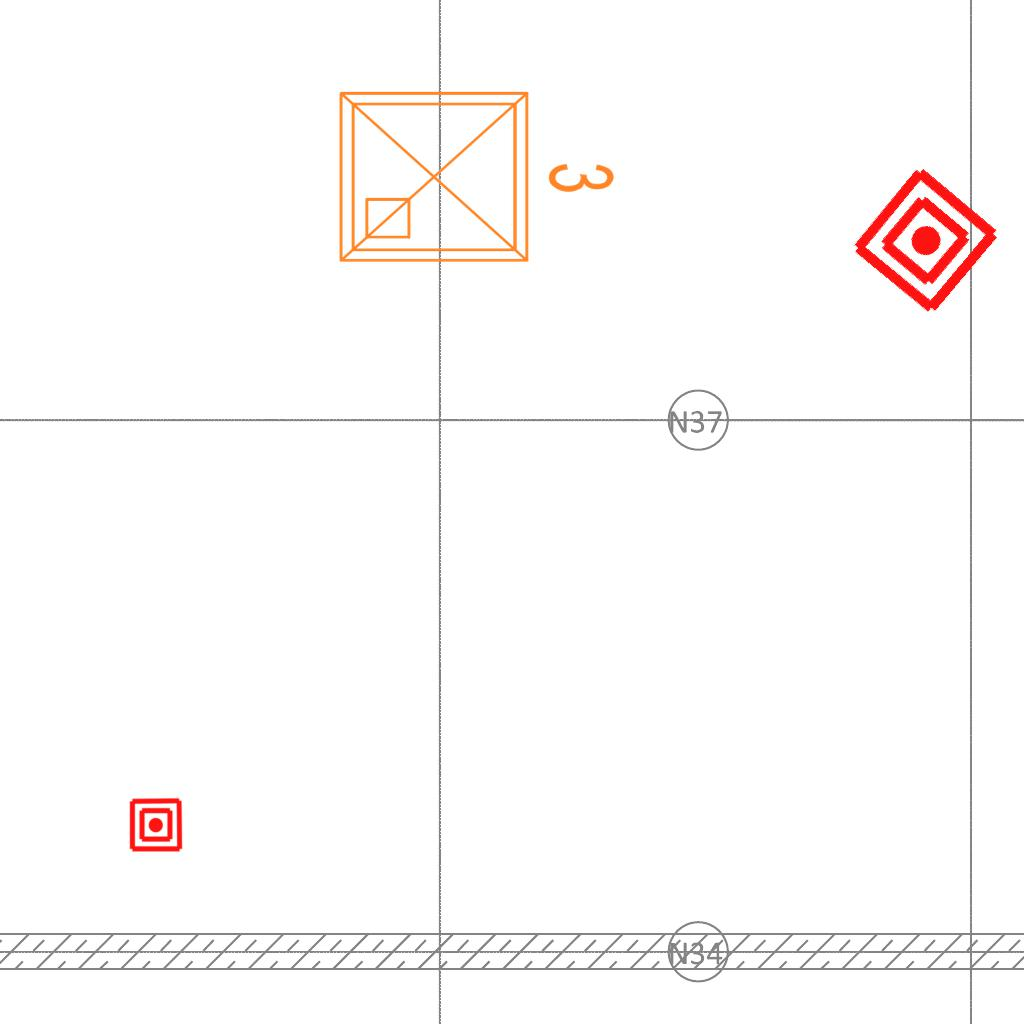Einbaudownlights_LED_Konferenzraeume: (325, 69, 625, 277)
NAM-Nichtautomatischer_Melder: (845, 160, 1006, 321), (128, 797, 184, 853)
